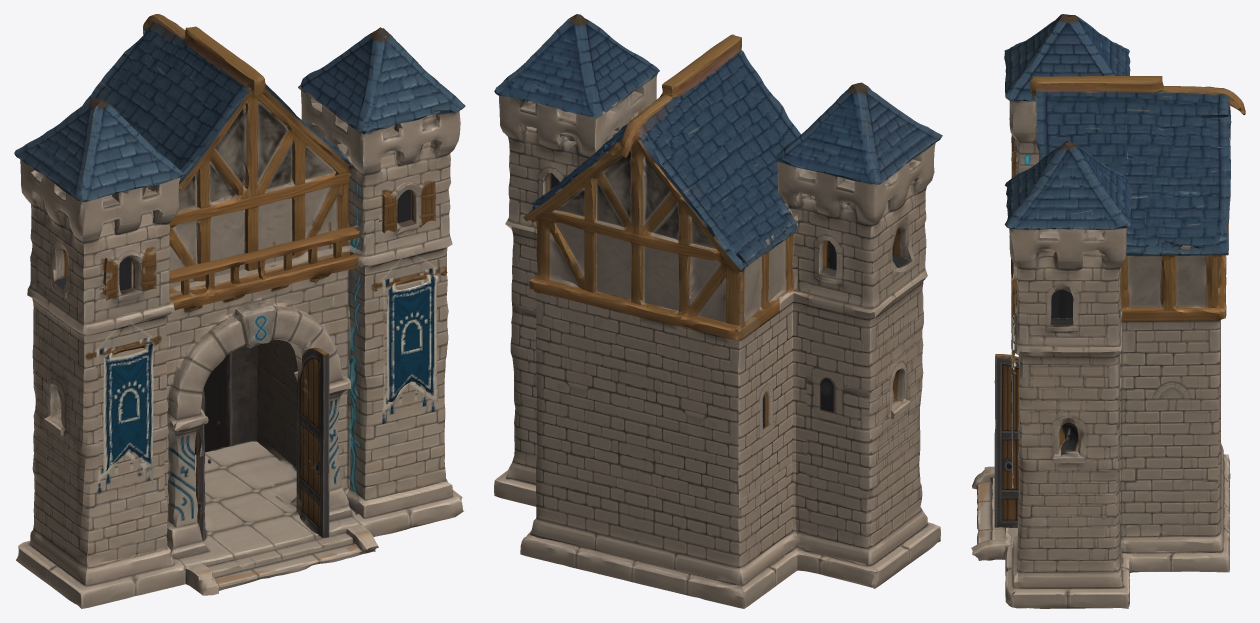
File: crossing_hall_facade_tower.glb
3 renders of one model, left to right at view 1: azimuth 30°, elevation 25°; view 2: azimuth 150°, elevation 25°; view 3: azimuth 270°, elevation 25°, orthographic. The views are drawn at different scales.
Parts seen in each view (by area): view 1: Mesh_0; view 2: Mesh_0; view 3: Mesh_0.
Boxes of the visible parts, box(x1,y1,x2,y2) form: Mesh_0: box(14, 14, 465, 608); Mesh_0: box(494, 14, 942, 608); Mesh_0: box(971, 14, 1245, 608).
Bounding box in the file's own units: 14 × 16.36 × 9.15.
1 material, 1 textured.
